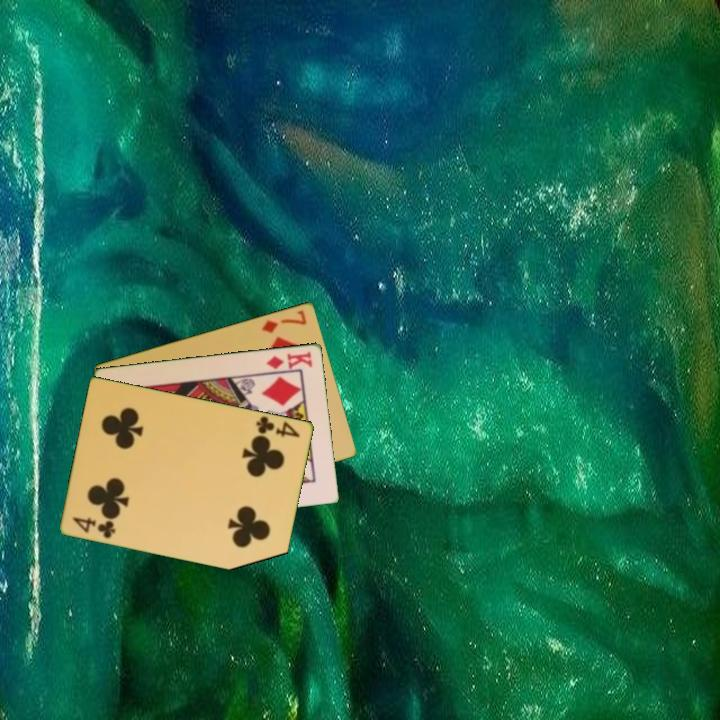4c: (253, 412, 303, 440), (69, 513, 119, 541)
7d: (258, 306, 310, 336)
Kd: (263, 347, 315, 372)
